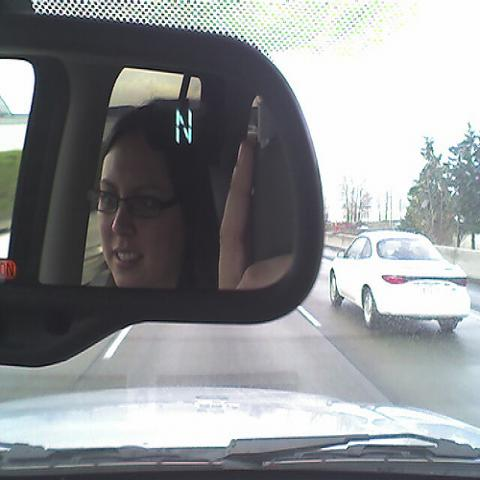car: (328, 229, 470, 333)
